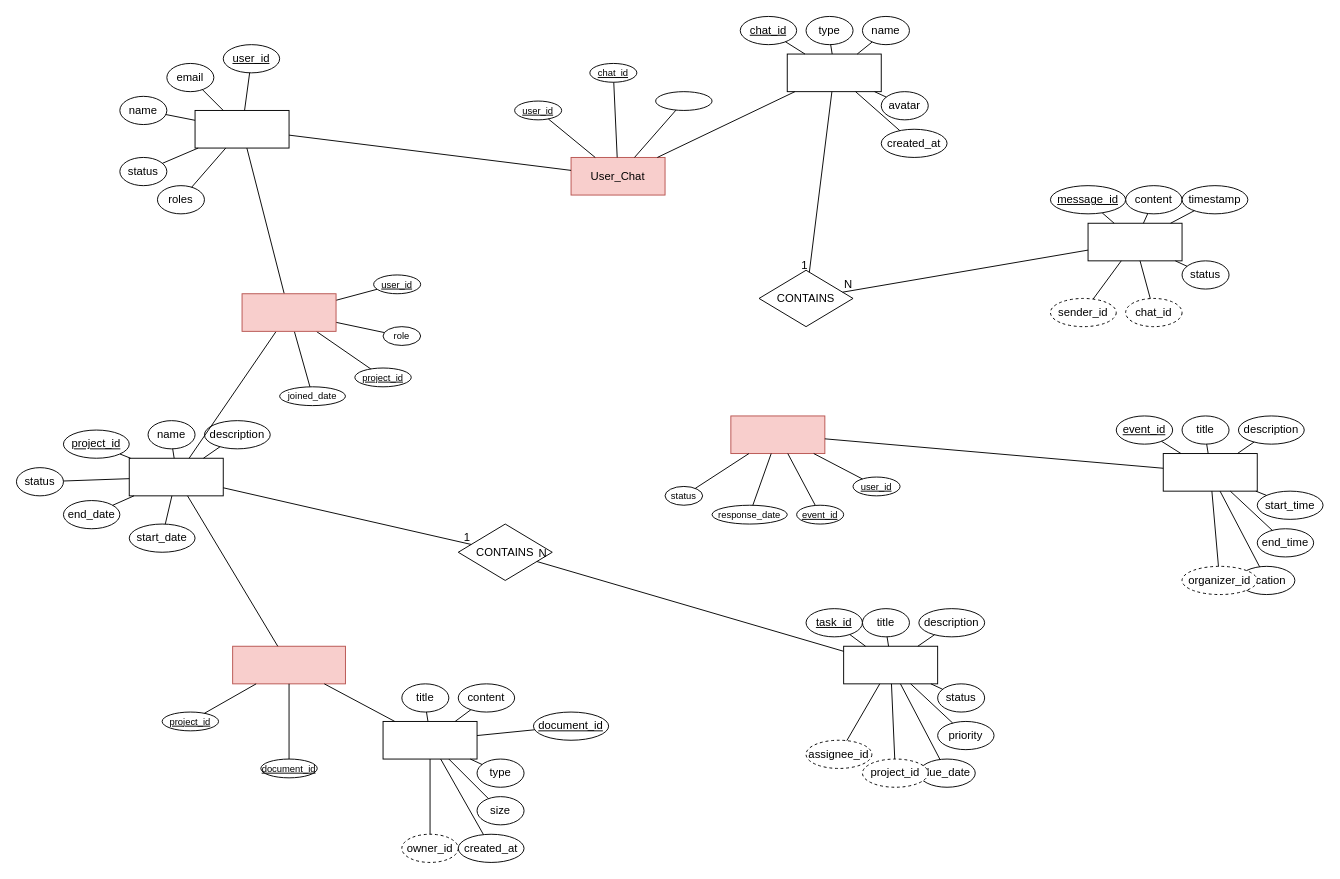
Image size: 1340x879. Some labels were removed from this diagram. The centre of each missing label's shape, as x and y in pixels:
Chat: the point at 833,72
Document: the point at 429,740
Event: the point at 1209,472
joined_at: the point at 683,100
Message: the point at 1134,241
Project: the point at 175,476
Project_Document: the point at 288,664
Task: the point at 890,664
User: the point at 241,129
User_Event: the point at 777,434
User_Project: the point at 288,312
